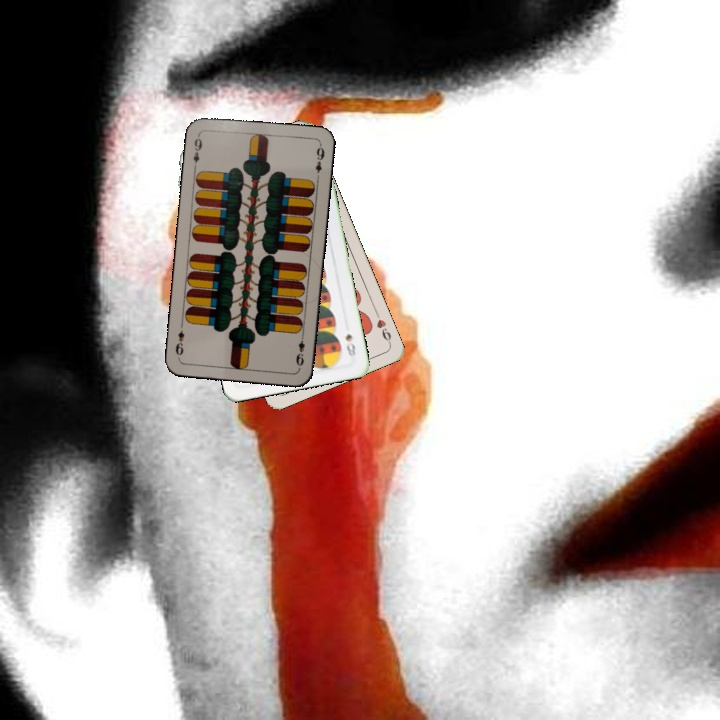E9: (189, 131, 205, 171), (292, 330, 307, 368)
H9: (372, 308, 394, 347)
S8: (341, 330, 358, 362)
